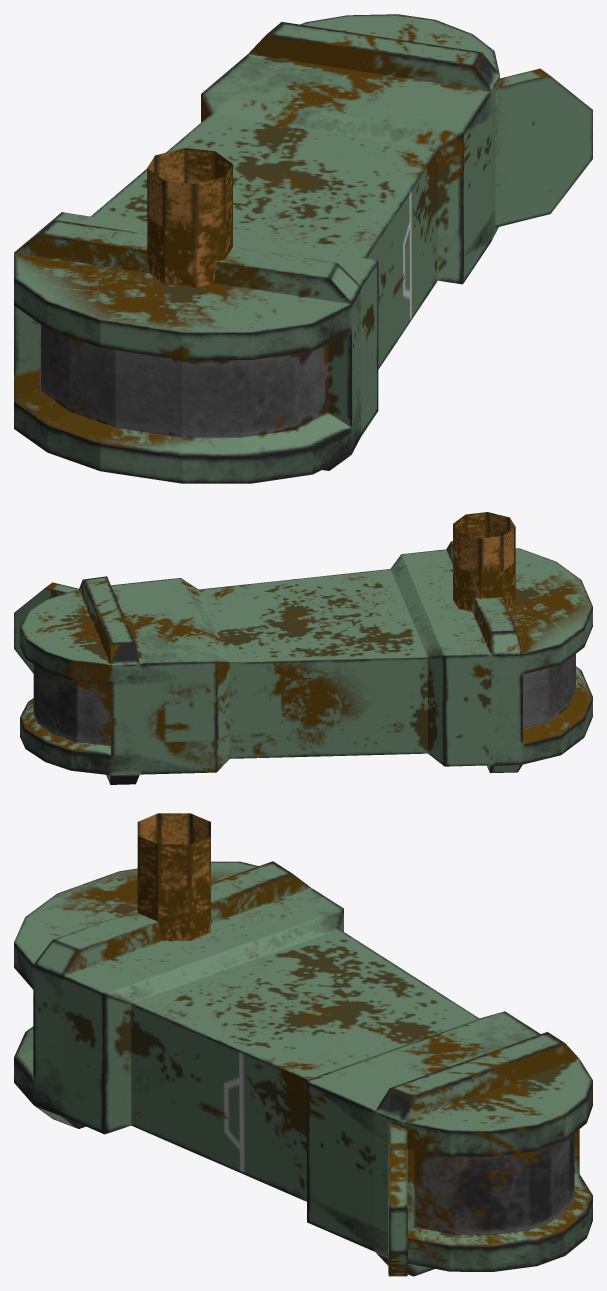
The model's file is SM_Mech_ThighR.obj.
3 renders of one model, top to bottom at view 1: azimuth 30°, elevation 25°; view 2: azimuth 150°, elevation 25°; view 3: azimuth 270°, elevation 25°, orthographic. The views are drawn at different scales.
Visible parts, largest first — view 1: SM_Mech_ThighR; view 2: SM_Mech_ThighR; view 3: SM_Mech_ThighR.
Boxes of the visible parts, <box> form: SM_Mech_ThighR: <box>14,14,592,483</box>; SM_Mech_ThighR: <box>14,512,592,784</box>; SM_Mech_ThighR: <box>14,813,592,1276</box>.
Bounding box in the file's own units: 249 × 99.4 × 203.
1 material, 1 textured.
